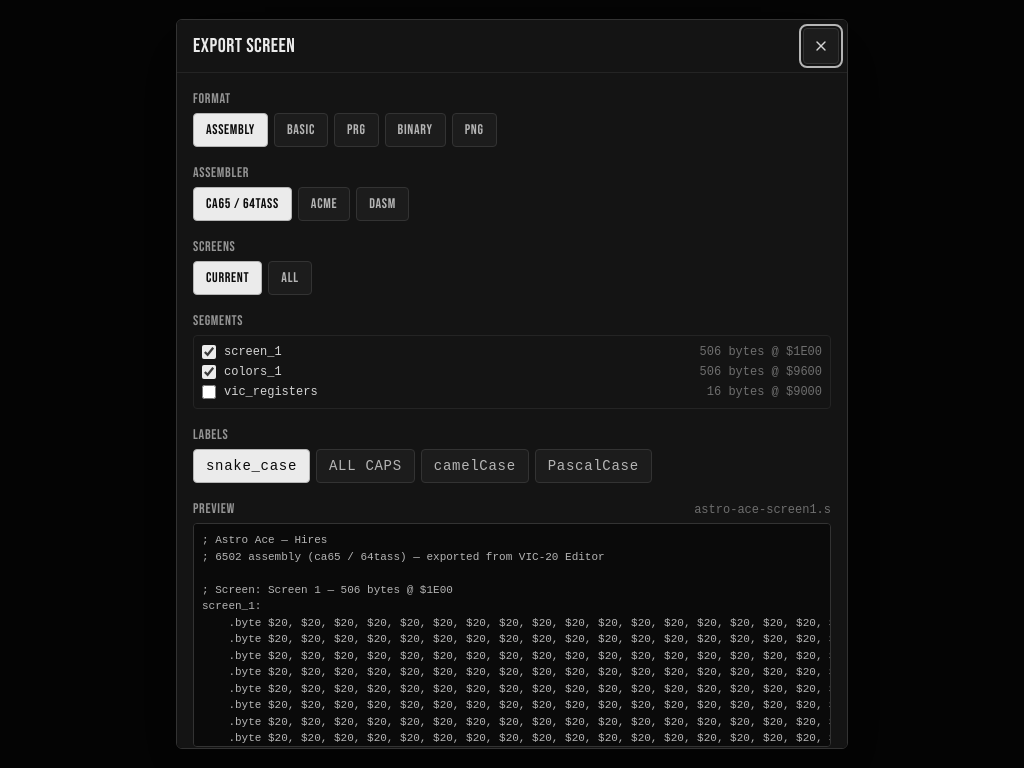
ExportDialog › reports the PRG load address and extension
What coordinates should you click on to do the following:
click the button "PRG"
I would click on:
 (356, 130)
Its box is [334,113,379,147].
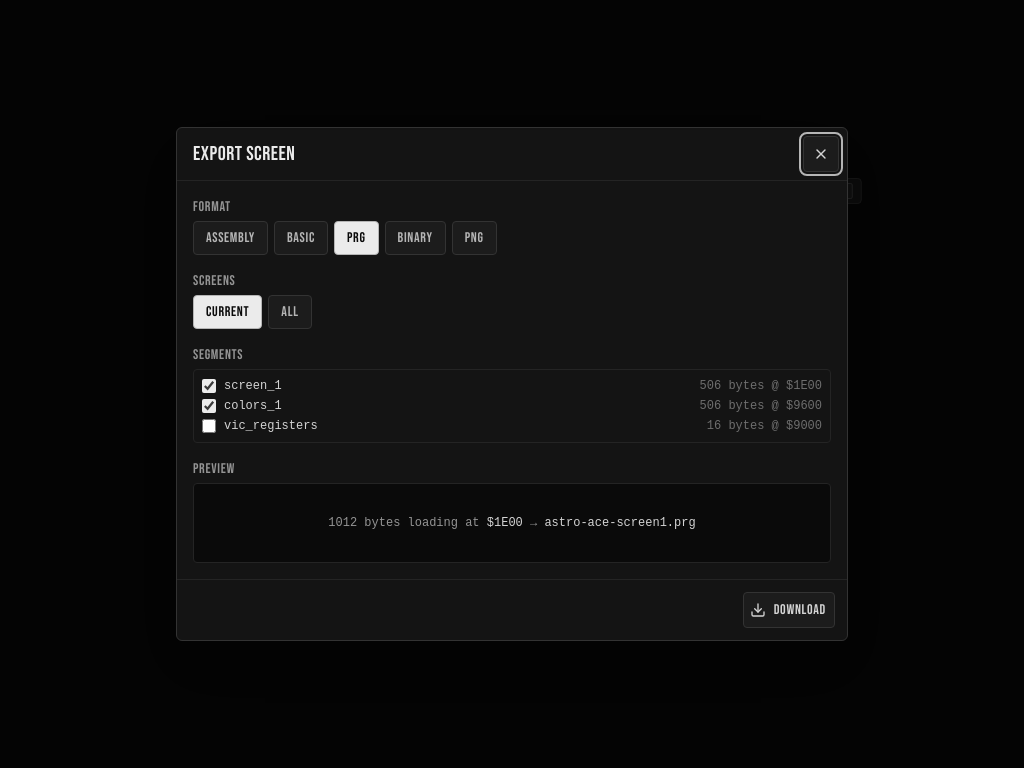
Expected: the text "$1E00" is shown, [700,379,822,393]
Expected: the text "astro-ace-screen1.prg" is shown, [544,516,696,530]
